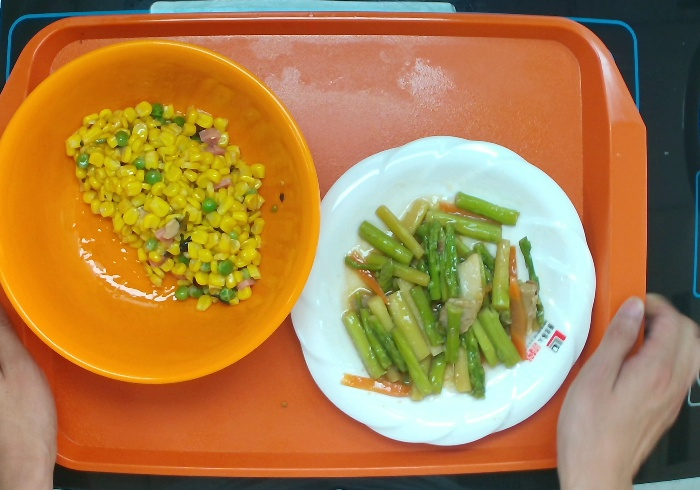ZNLD-Hua_Bian_Wan: (286, 133, 598, 448)
ZNLD-Ju_Se_Tang_Wan: (1, 37, 322, 387)
